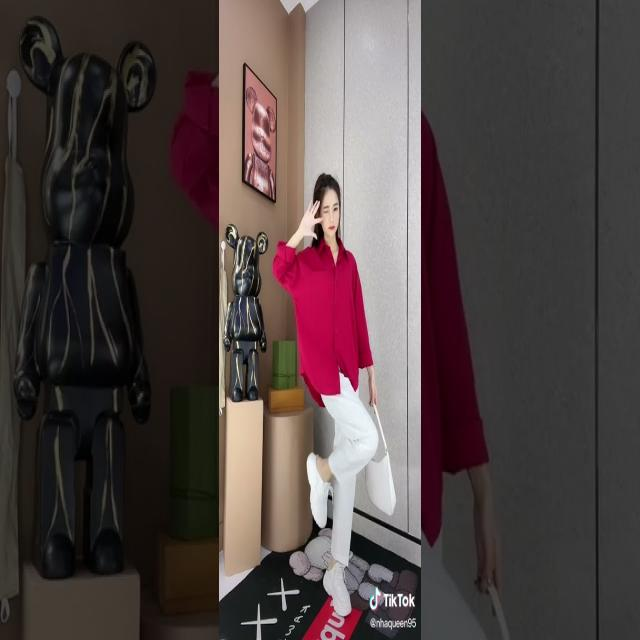clothes: (275, 235, 375, 566)
